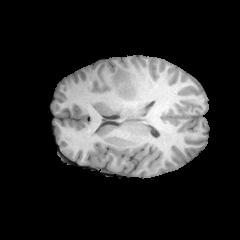glioma: (103, 66, 139, 113)
